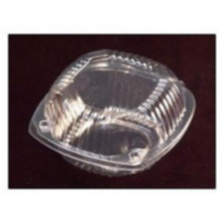plastic_box: (23, 41, 203, 183)
